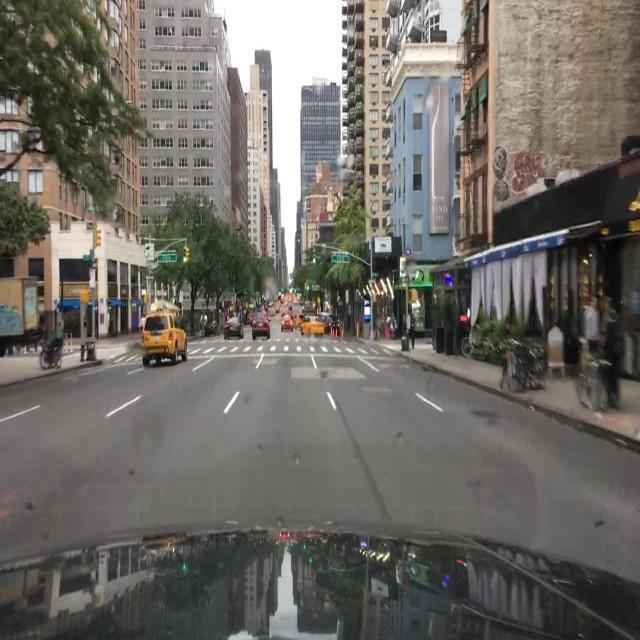normal: (112, 276, 203, 390)
